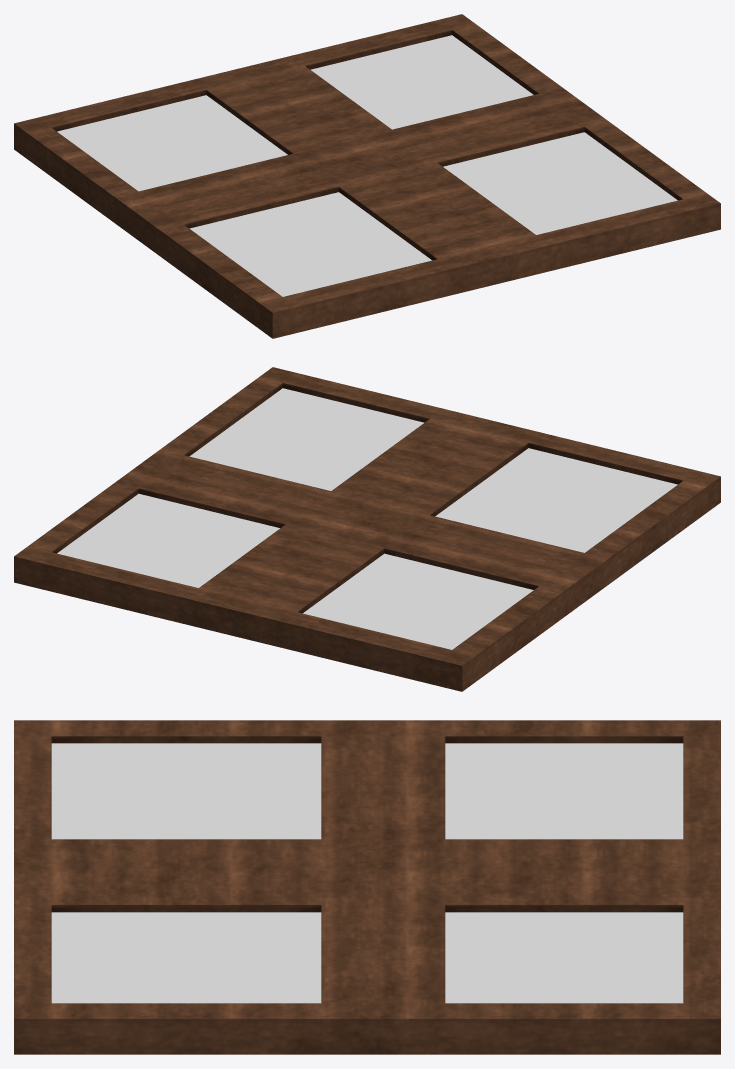
File: Interior Window.fbx
3 renders of one model, top to bottom at view 1: azimuth 30°, elevation 25°; view 2: azimuth 150°, elevation 25°; view 3: azimuth 270°, elevation 25°, orthographic. The views are drawn at different scales.
Parts seen in each view (by area): view 1: WindowFrame, Box001.001; view 2: WindowFrame, Box001.001; view 3: WindowFrame, Box001.001.
Part boxes in pixels (x1,y1,x2,y2): WindowFrame: [14, 14, 720, 338]; Box001.001: [57, 35, 677, 296]; WindowFrame: [14, 367, 720, 691]; Box001.001: [57, 388, 677, 649]; WindowFrame: [14, 720, 720, 1054]; Box001.001: [51, 743, 683, 1003].
Size of the model in its own units: 91.44 by 91.44 by 5.08.
